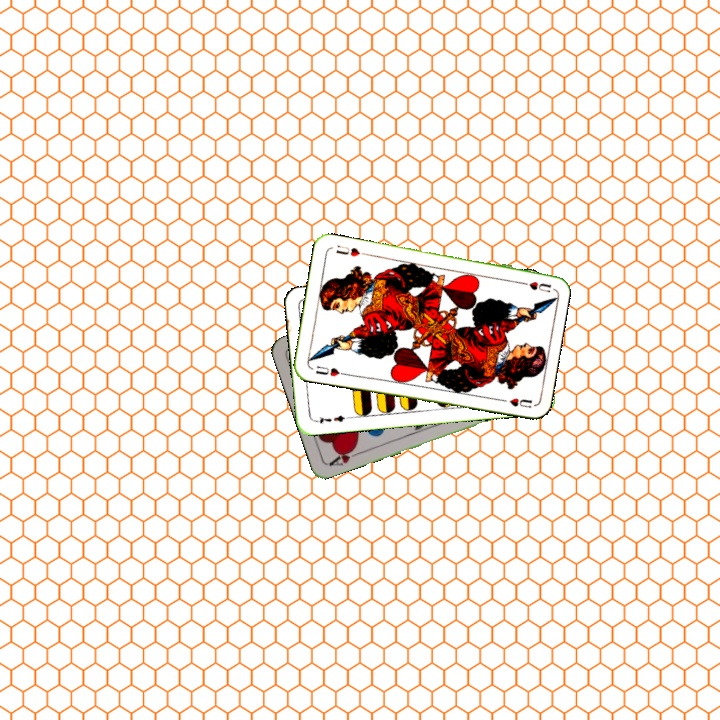E7: (311, 411, 351, 427)
HA: (325, 443, 364, 469)
HU: (514, 277, 554, 295), (311, 362, 342, 379)
